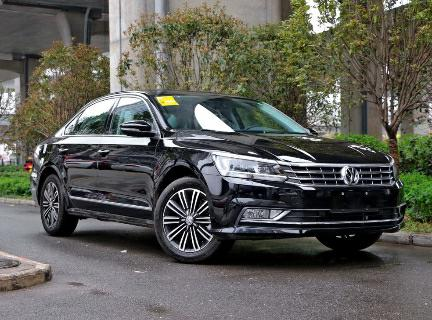大众-帕萨特: (25, 84, 417, 269)
